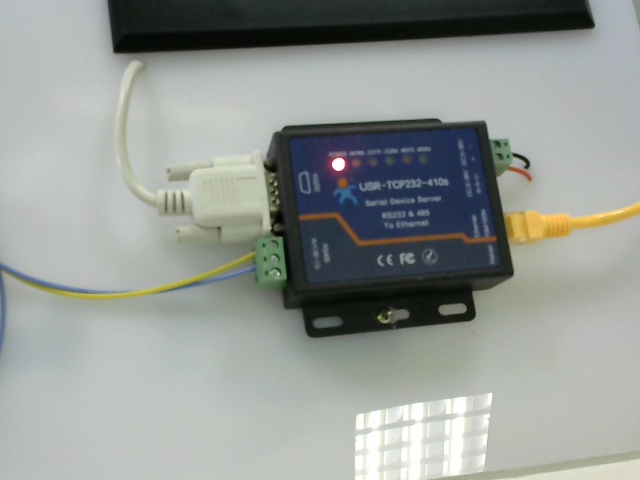termperature: (265, 113, 536, 338)
